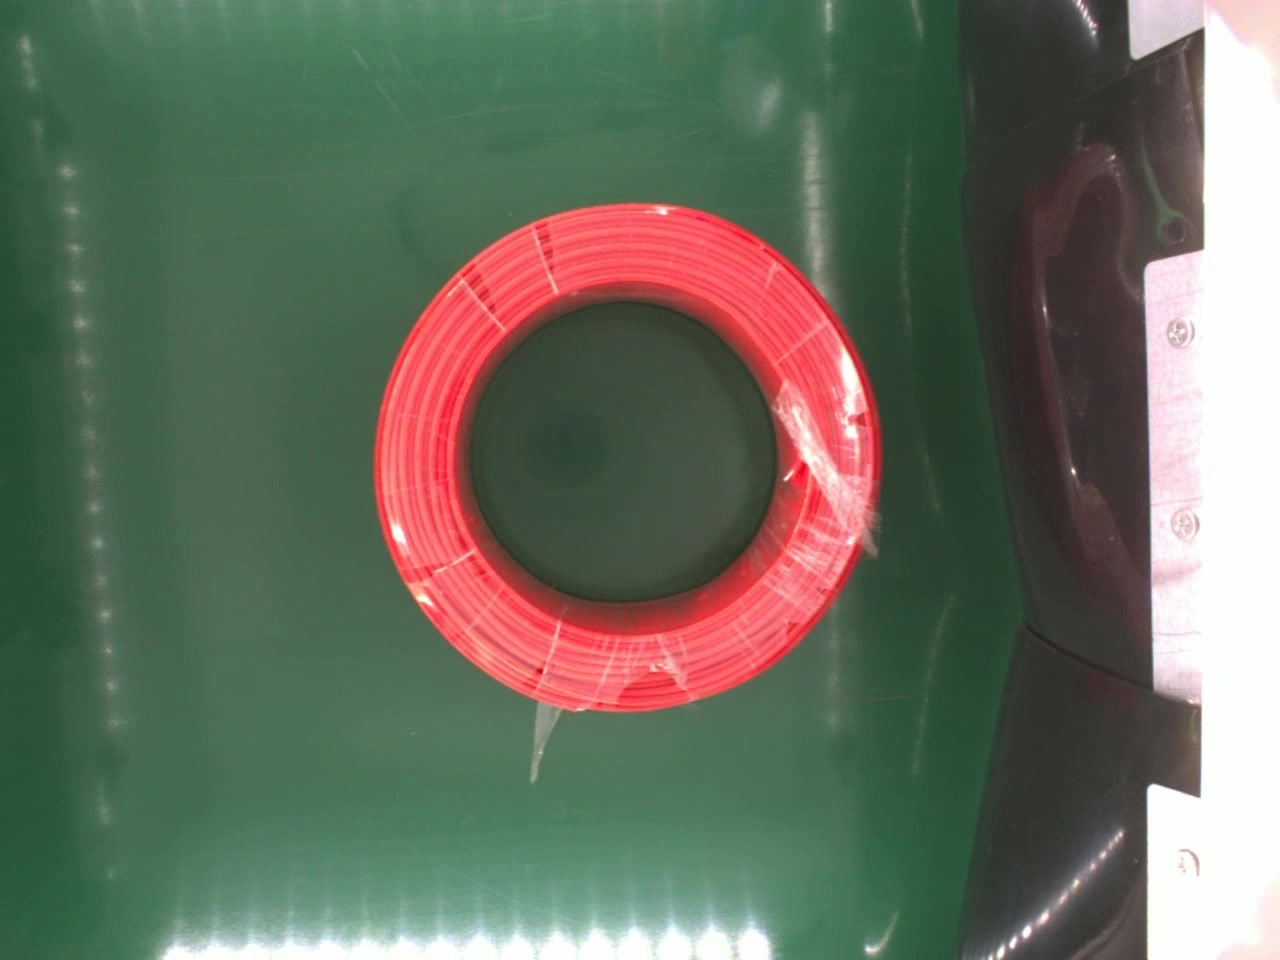red: (371, 202, 880, 714)
